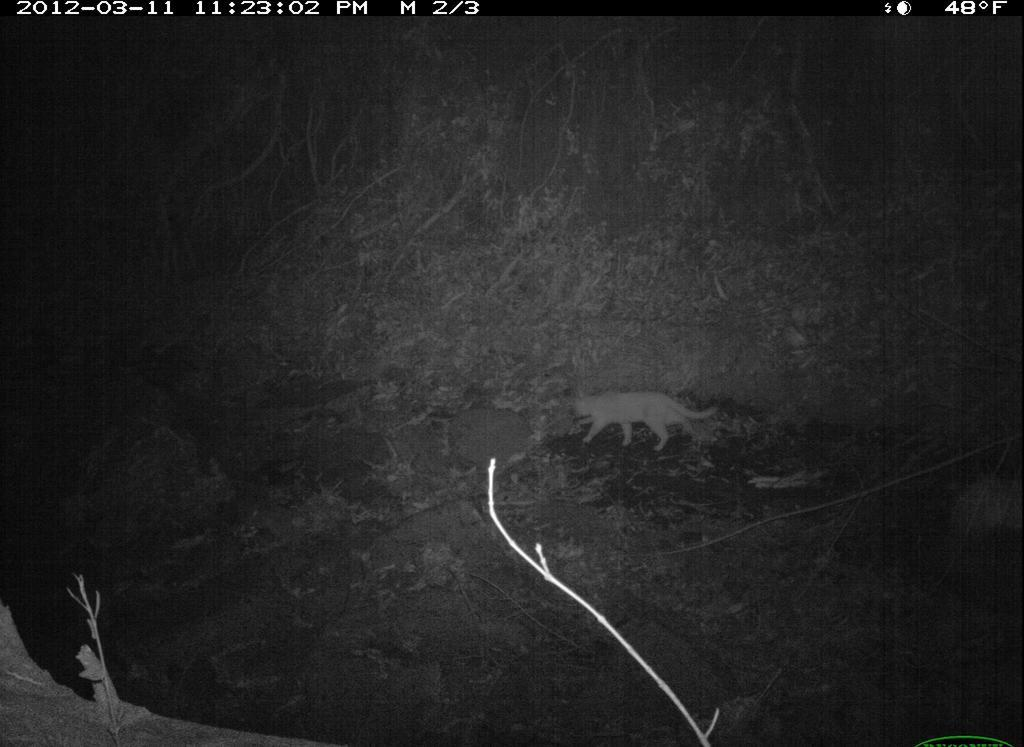cat: (559, 390, 708, 460)
